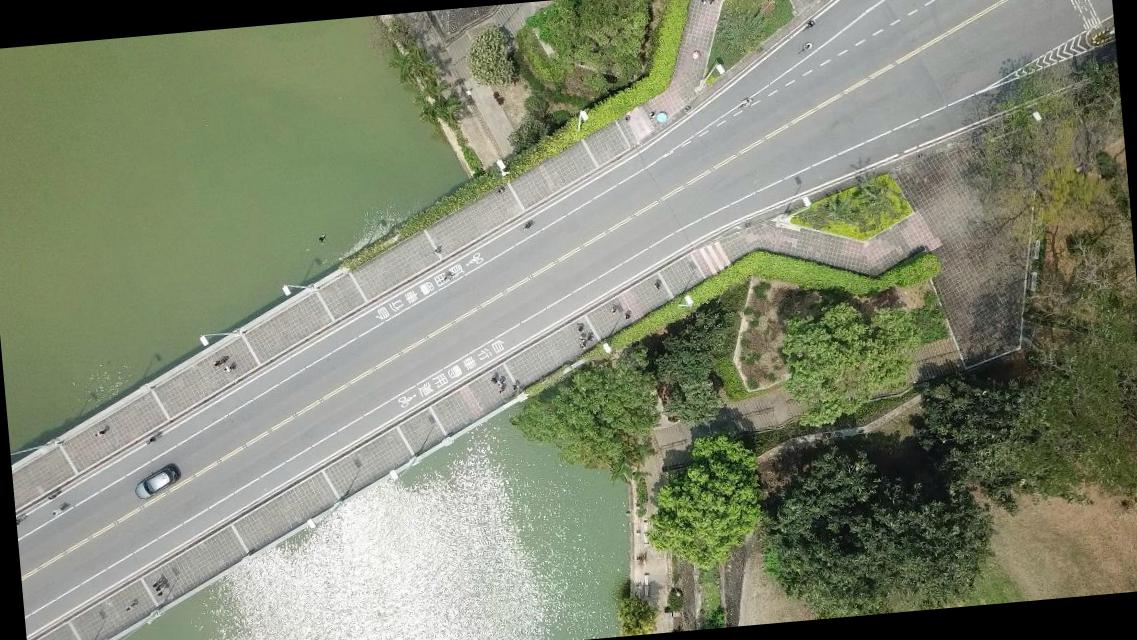vehicle: (132, 466, 178, 500)
